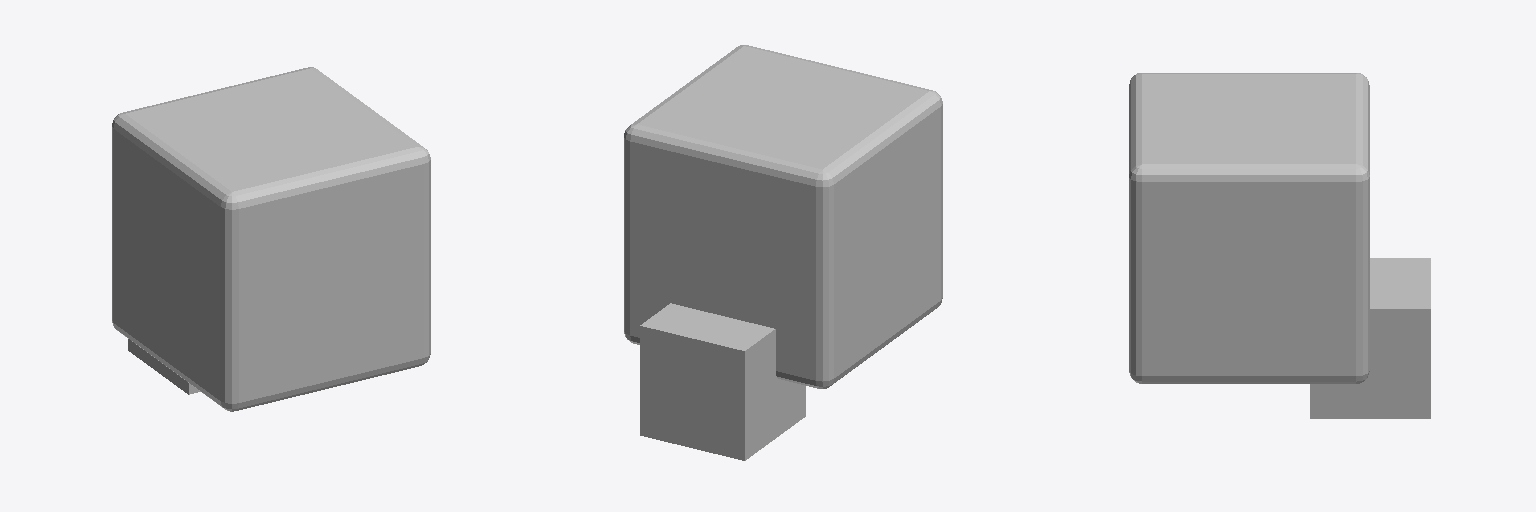
Rendered from rubik_edge.obj.
3 views of the same model, side by side, from view 1: azimuth 30°, elevation 25°; view 2: azimuth 150°, elevation 25°; view 3: azimuth 270°, elevation 25° (orthographic).
Size of the model in its own units: 1.79 by 2.25 by 2.25.